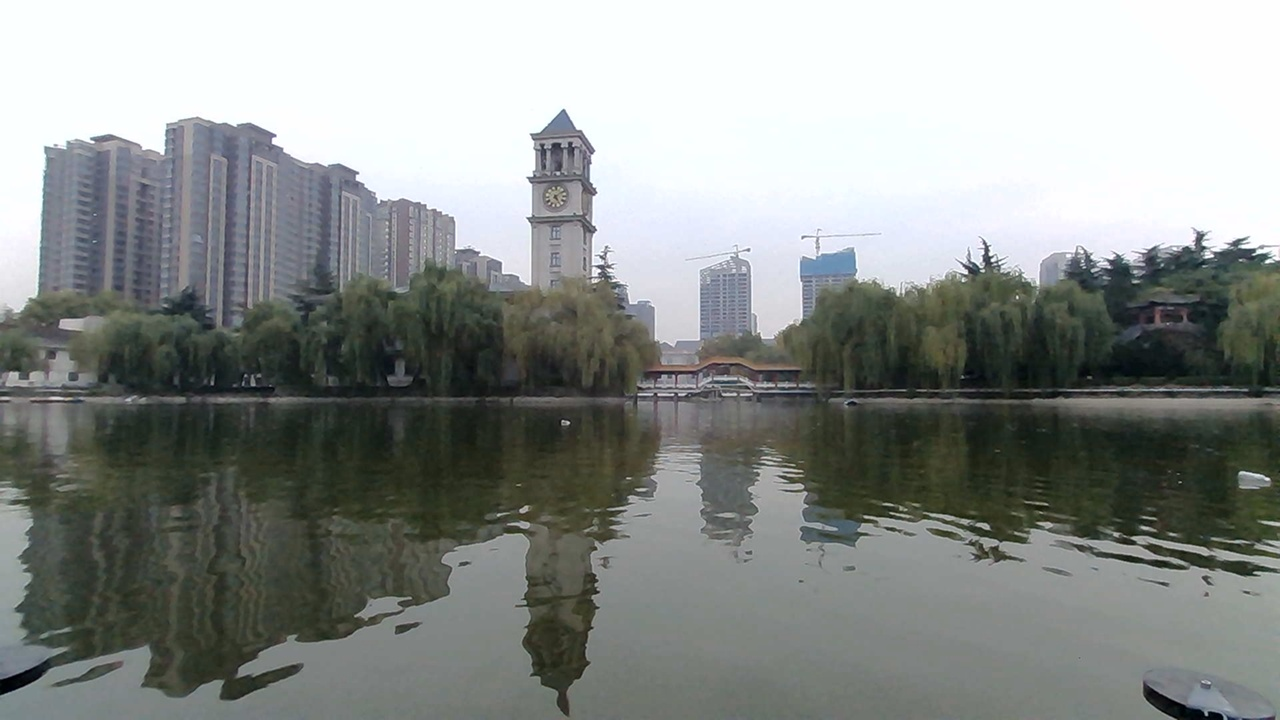bottle: (1236, 470, 1268, 491), (552, 409, 583, 430)
